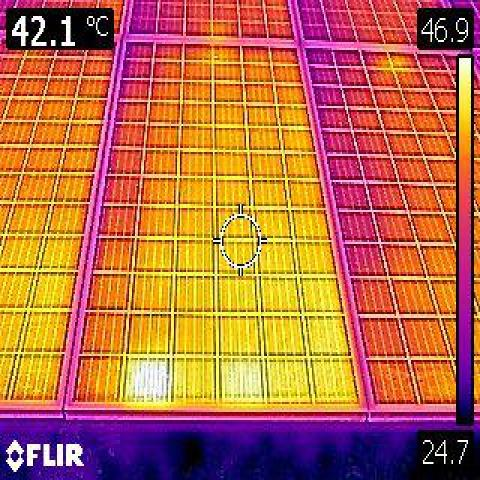fault: (129, 356, 172, 400)
